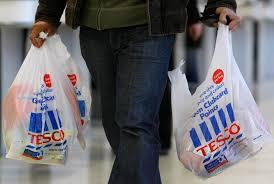Plastic bag: (160, 11, 274, 177), (0, 25, 95, 174)
